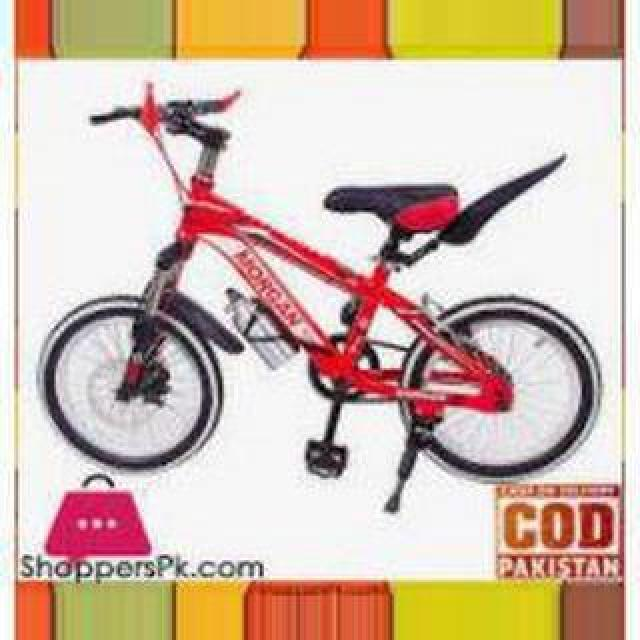Person: (35, 83, 601, 479)
